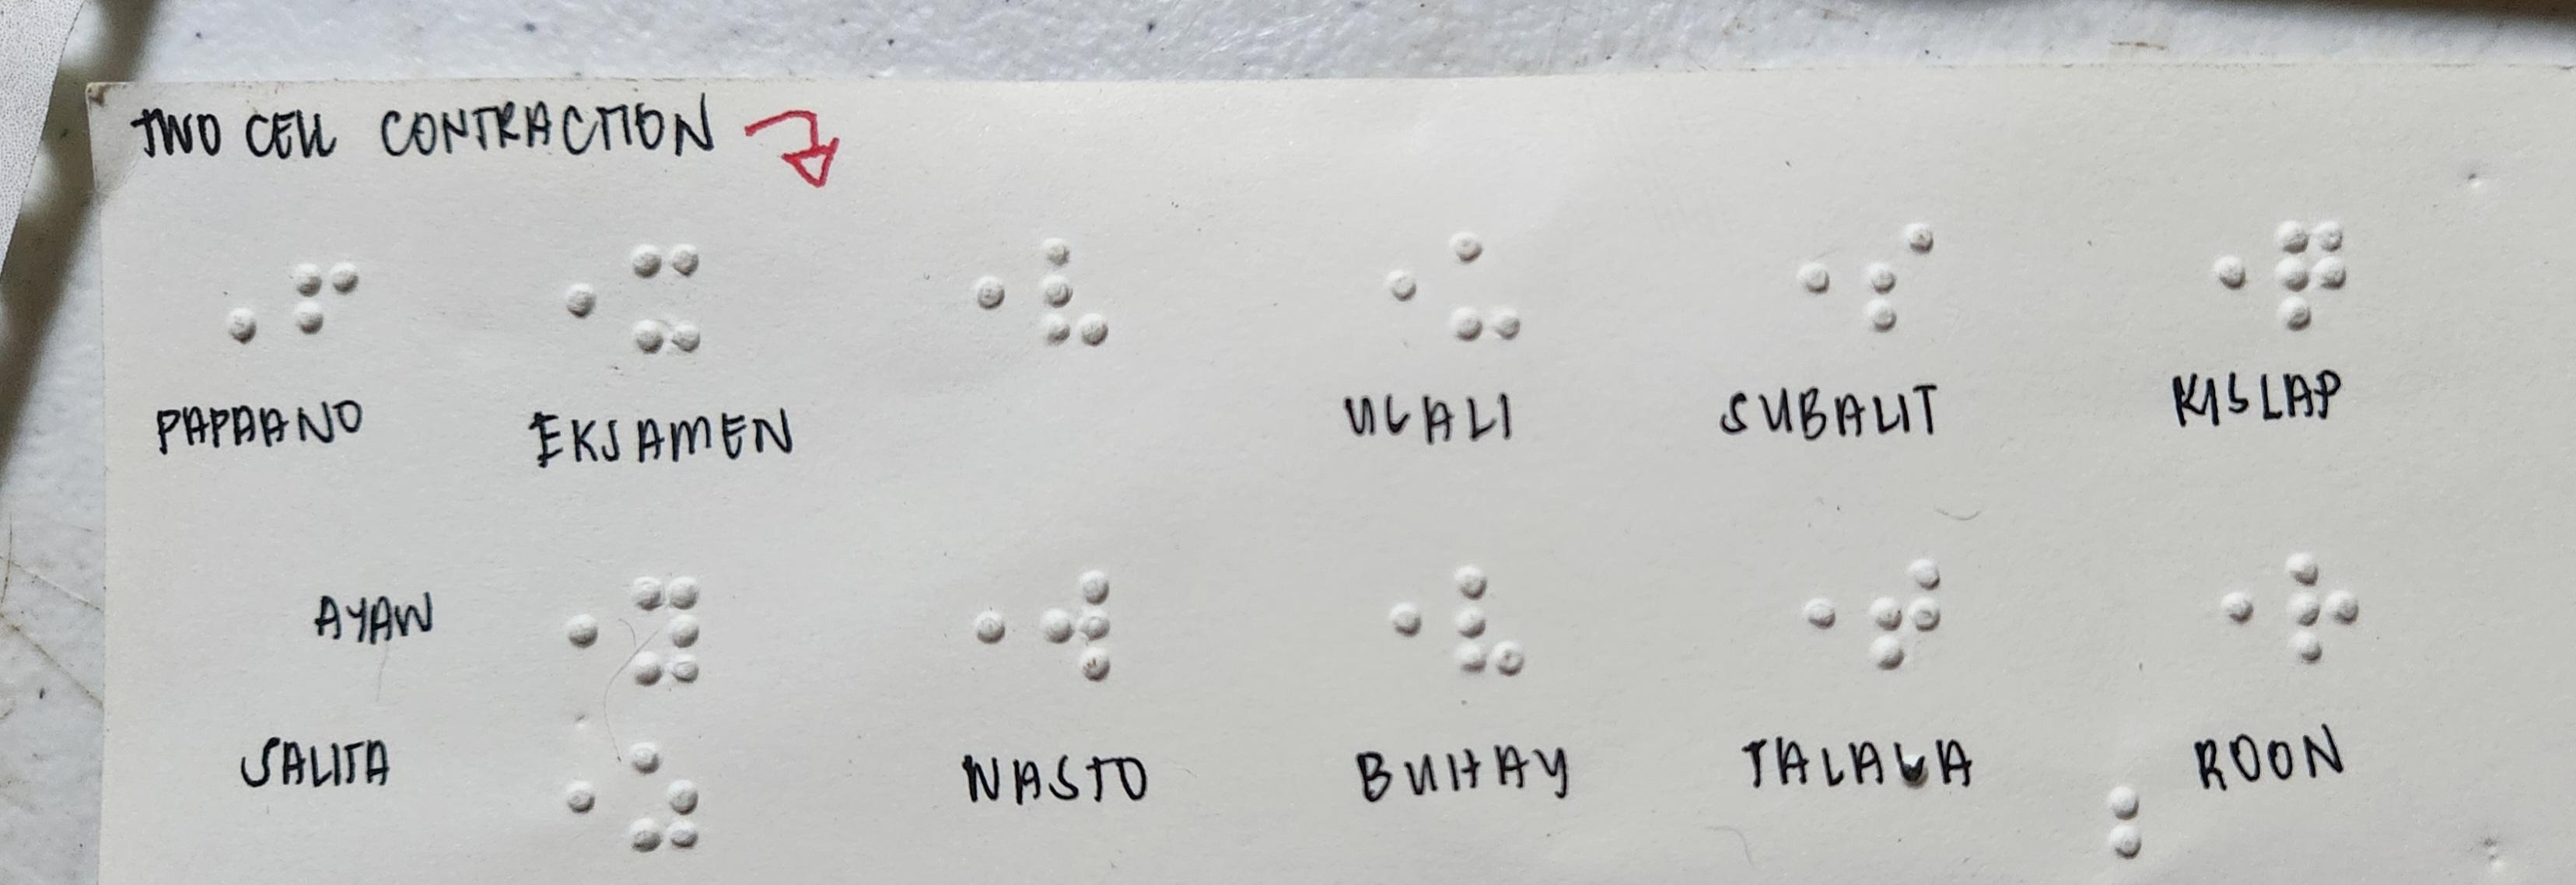dot_5: (1764, 230, 1832, 338), (2180, 225, 2247, 333), (536, 581, 603, 690), (194, 269, 260, 378), (940, 246, 1005, 355), (1352, 236, 1418, 345), (2190, 557, 2256, 665), (1773, 565, 1838, 673), (1354, 573, 1419, 681), (940, 576, 1005, 685), (531, 745, 596, 854), (531, 253, 596, 360)
two_cell_alphabet_ayaw: (631, 576, 703, 685)
two_cell_alphabet_buhay: (1452, 566, 1526, 675), (1042, 236, 1107, 345)
two_cell_alphabet_eksamen: (632, 246, 700, 355)
two_cell_alphabet_kislap: (2279, 222, 2344, 330)
two_cell_alphabet_papaano: (292, 259, 358, 368)
two_cell_alphabet_roon: (2288, 557, 2362, 663)
two_cell_alphabet_salita: (624, 745, 698, 854)
two_cell_alphabet_subalit: (1868, 227, 1934, 335)
two_cell_alphabet_talaga: (1868, 558, 1942, 667)
two_cell_alphabet_ugali: (1454, 235, 1520, 342)
two_cell_alphabet_wasto: (1040, 573, 1114, 681)
